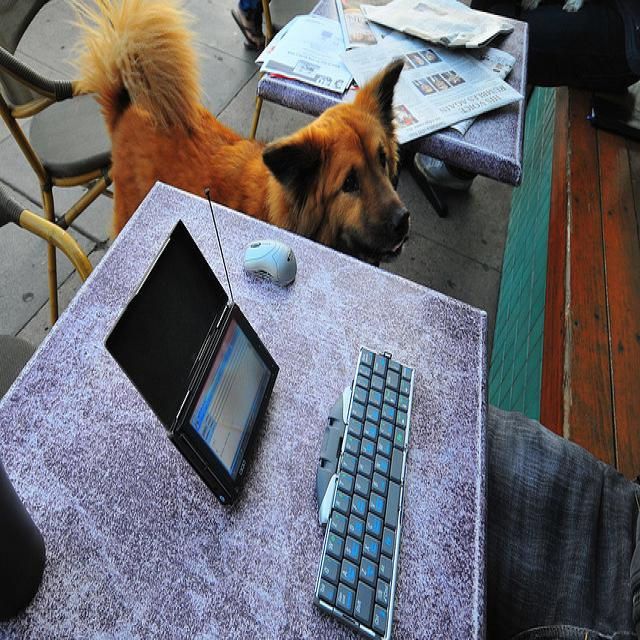chair: (0, 1, 115, 334), (0, 188, 93, 399), (248, 1, 273, 138)
dining table: (1, 178, 485, 631), (260, 26, 529, 173)
